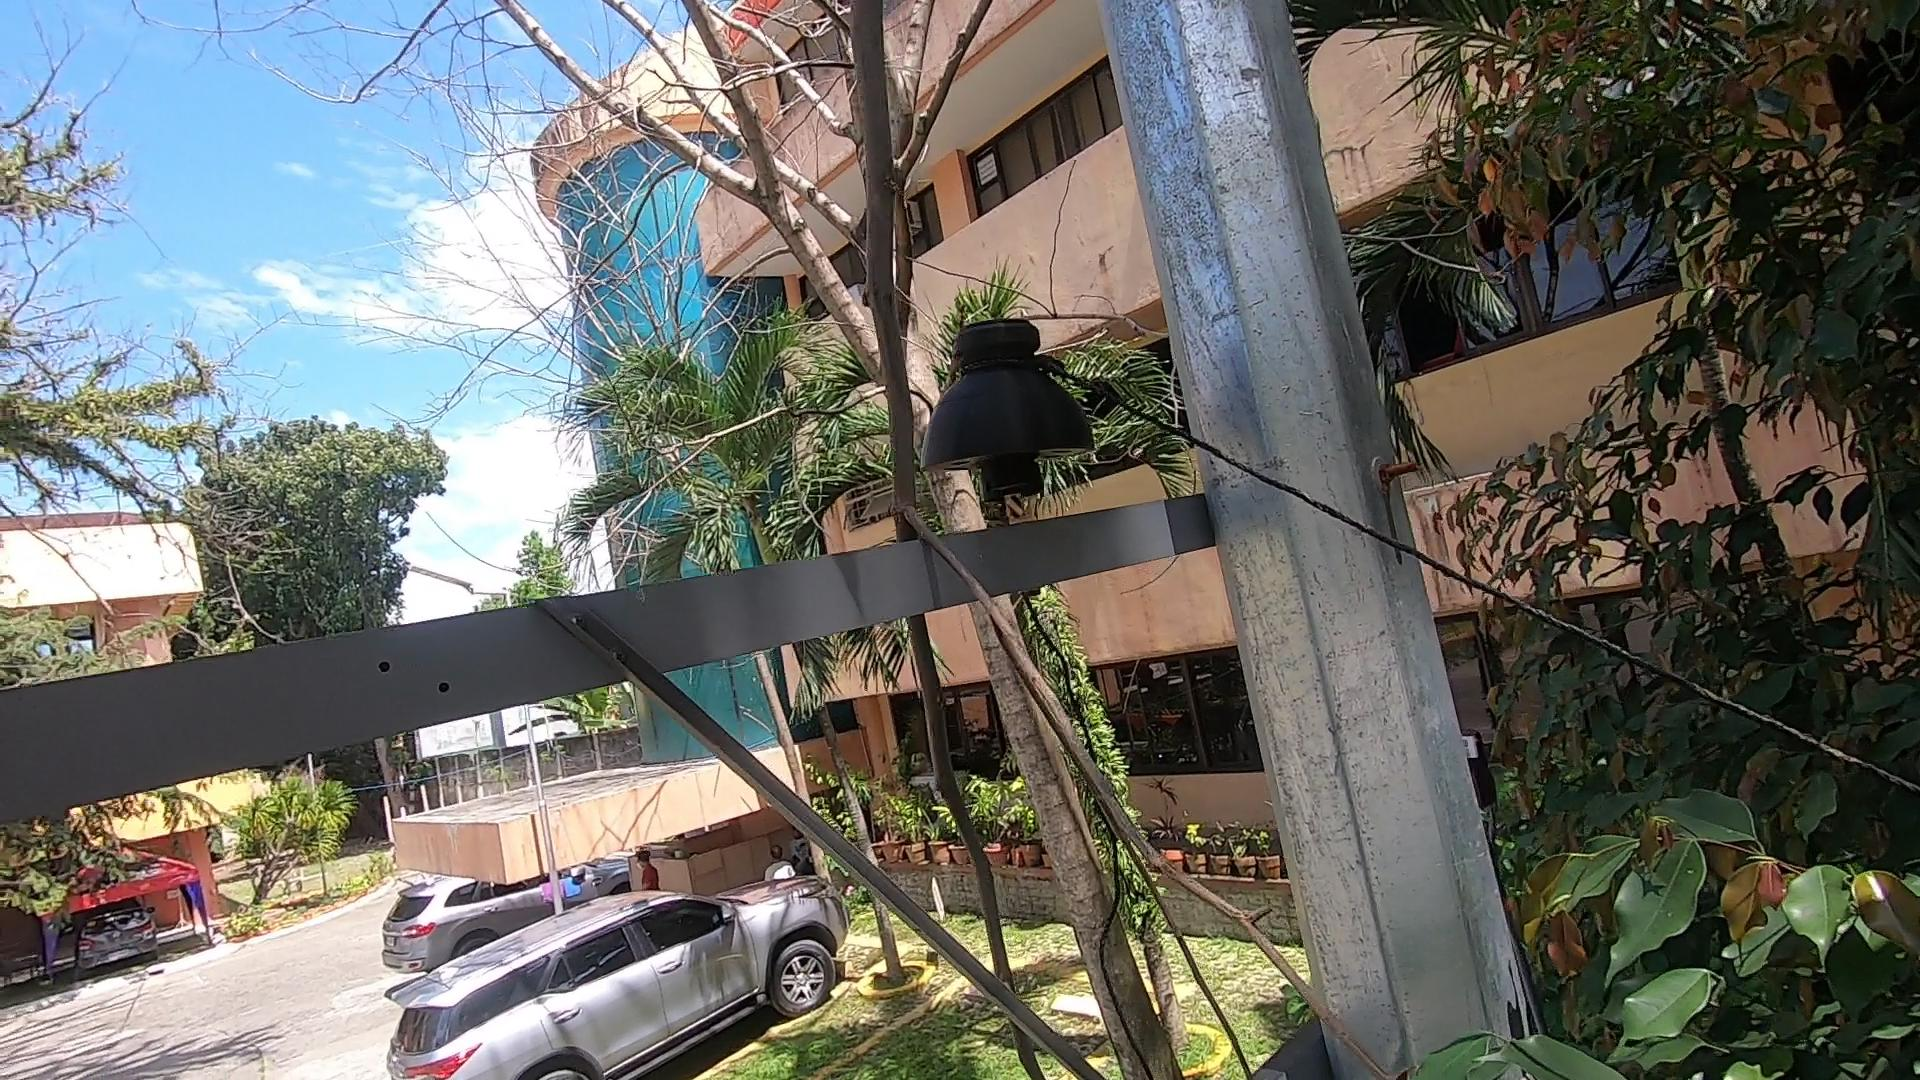tree branch: (785, 3, 1410, 1080)
